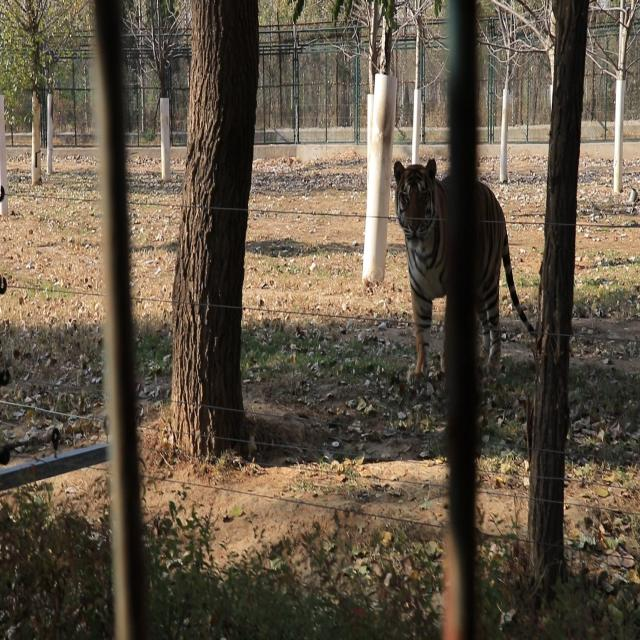Tiger: (384, 139, 530, 388)
